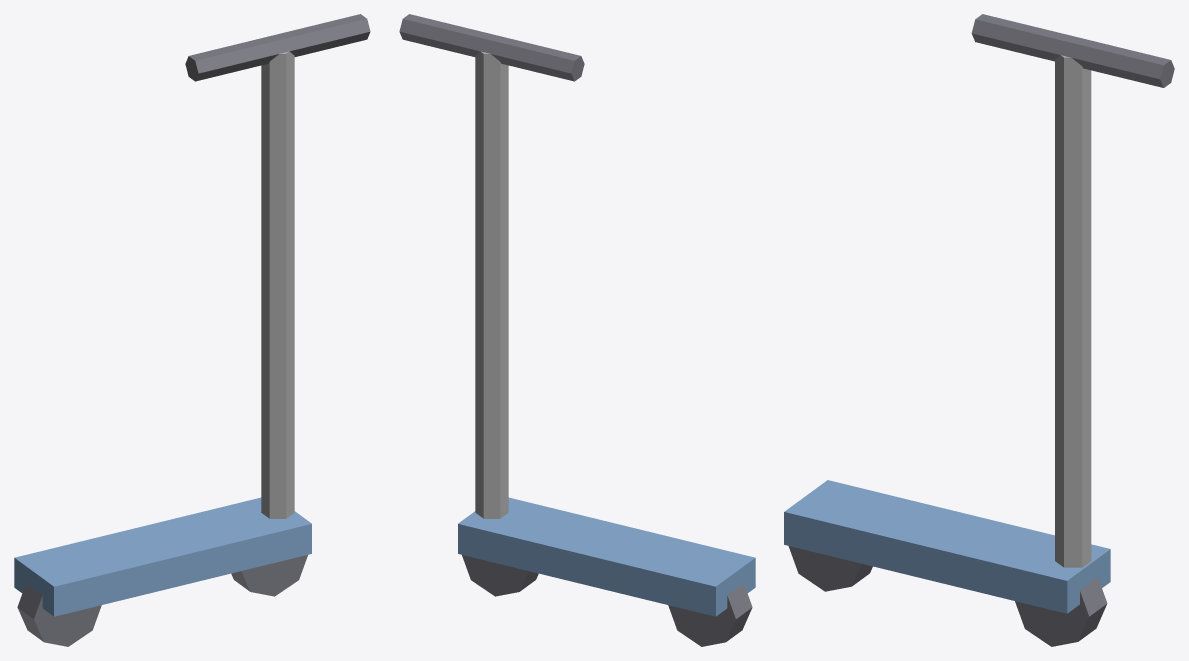
The model's file is kid_patente.glb.
3 renders of one model, left to right at view 1: azimuth 30°, elevation 25°; view 2: azimuth 150°, elevation 25°; view 3: azimuth 330°, elevation 25°, orthographic. The views are drawn at different scales.
Visible parts, largest first — view 1: KID_PATENTE_v01; view 2: KID_PATENTE_v01; view 3: KID_PATENTE_v01.
Boxes of the visible parts, x1=… form: KID_PATENTE_v01: x1=14, y1=14, x2=370, y2=646; KID_PATENTE_v01: x1=399, y1=14, x2=755, y2=646; KID_PATENTE_v01: x1=784, y1=14, x2=1174, y2=646.
Bounding box in the file's own units: 0.59 × 0.9173 × 0.12.
